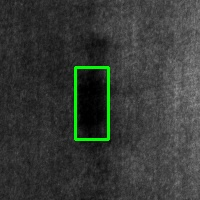patches: (75, 67, 108, 139)
